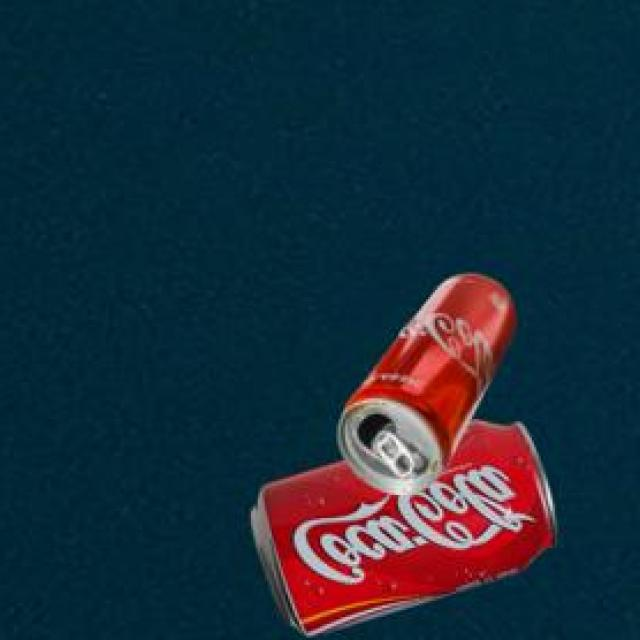logam: (254, 418, 561, 632), (342, 271, 517, 492)
